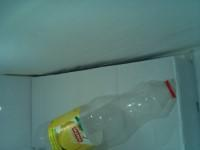bottle: (35, 76, 178, 150)
